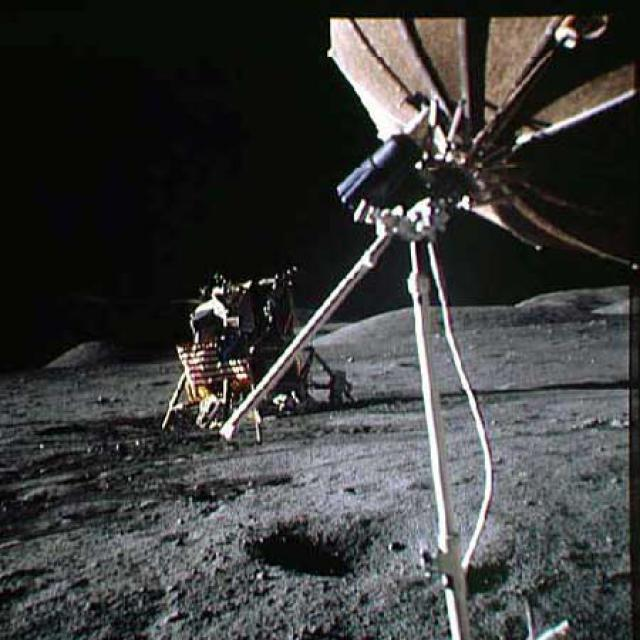artifact: (196, 0, 637, 639), (152, 274, 357, 426)
crater: (271, 516, 424, 576)
